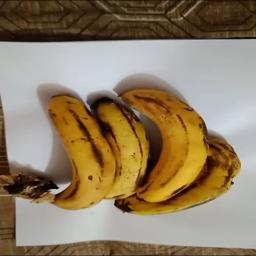Banana Semifresh: (0, 93, 118, 212), (117, 87, 209, 208), (91, 93, 147, 202), (206, 129, 239, 206)
